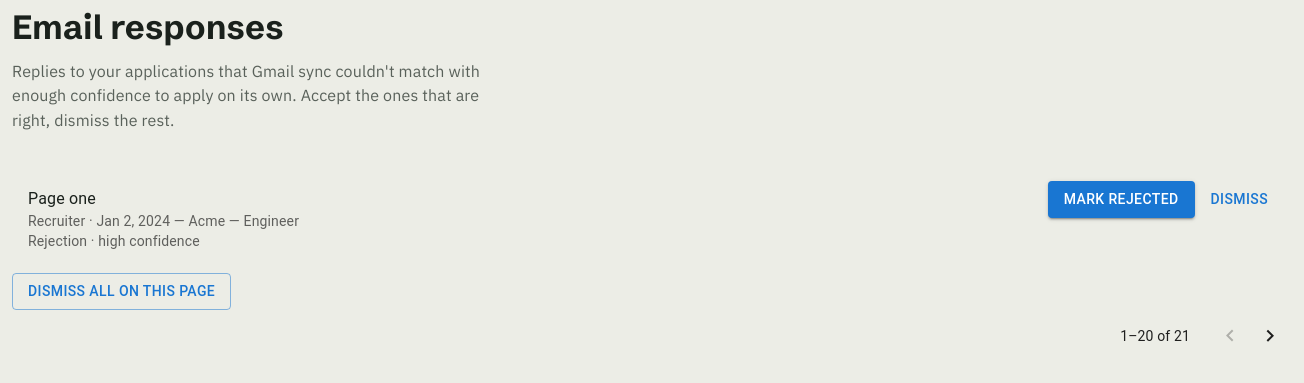
Test: EmailResponsesPage › steps back a page when the server reports no rows left
Expected: the text "Page one" is shown, [28,189,96,208]
What coordinates should you click on to do the following:
click the button named "Go to next page"
I would click on:
 (1270, 336)
Its box is [1250,316,1290,356].
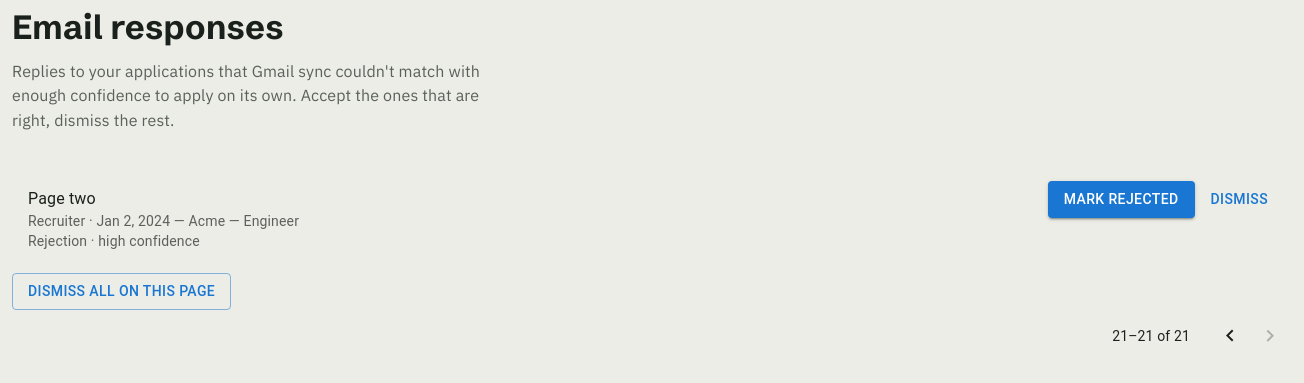
Expected: the text "Page two" is shown, [28,189,96,208]
What coordinates should you click on to do the following:
click the button with aria-label "Dismiss: Page two"
I would click on:
 (1239, 199)
Its box is [1202,181,1276,218].
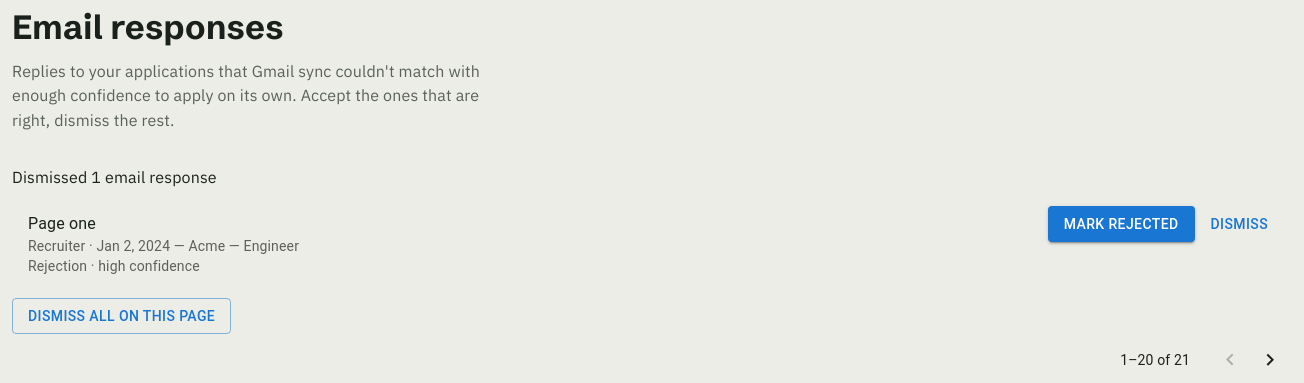
Expected: the text "Page one" is shown, [28,214,96,233]
